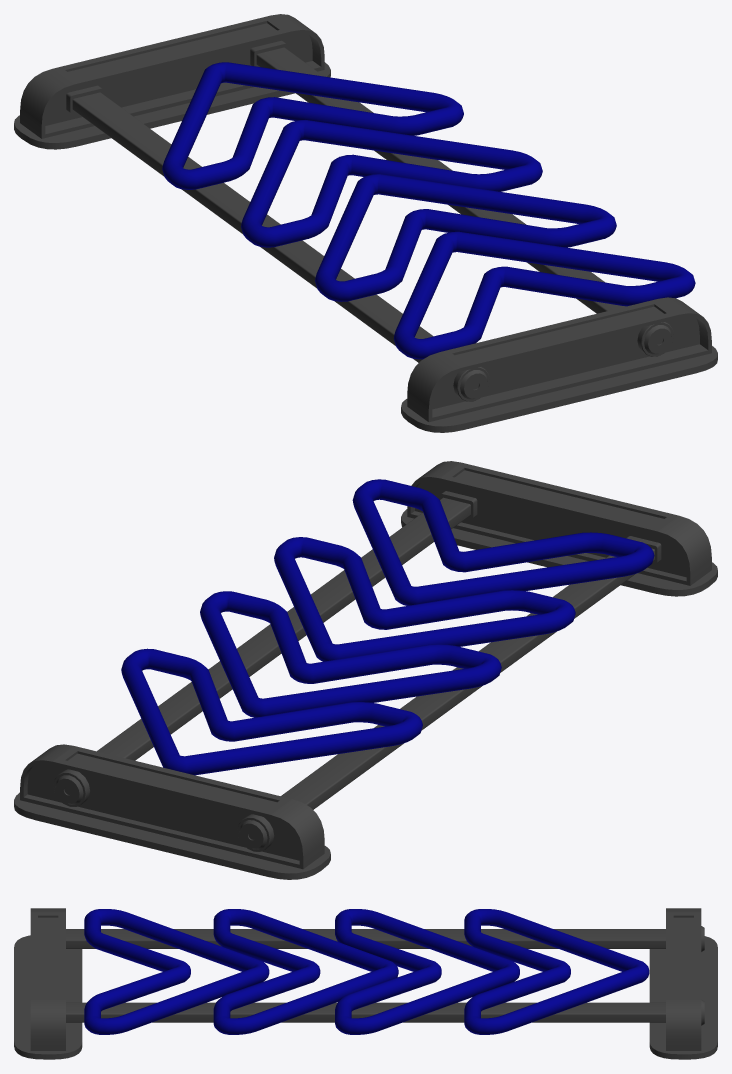
File: SM_Light_lamps_lamp_5.fbx
The picture shows the model from 3 angles, top to bottom: view 1: azimuth 30°, elevation 25°; view 2: azimuth 150°, elevation 25°; view 3: azimuth 270°, elevation 25°; orthographic projection. The views are drawn at different scales.
Parts seen in each view (by area): view 1: SM_Light_lamps_lamp_5; view 2: SM_Light_lamps_lamp_5; view 3: SM_Light_lamps_lamp_5.
Boxes of the visible parts, x1,y1,x2,y2 form: SM_Light_lamps_lamp_5: (14,14,717,432); SM_Light_lamps_lamp_5: (14,461,717,879); SM_Light_lamps_lamp_5: (14,908,717,1059).
Size of the model in its own units: 44.64 by 7.15 by 105.
